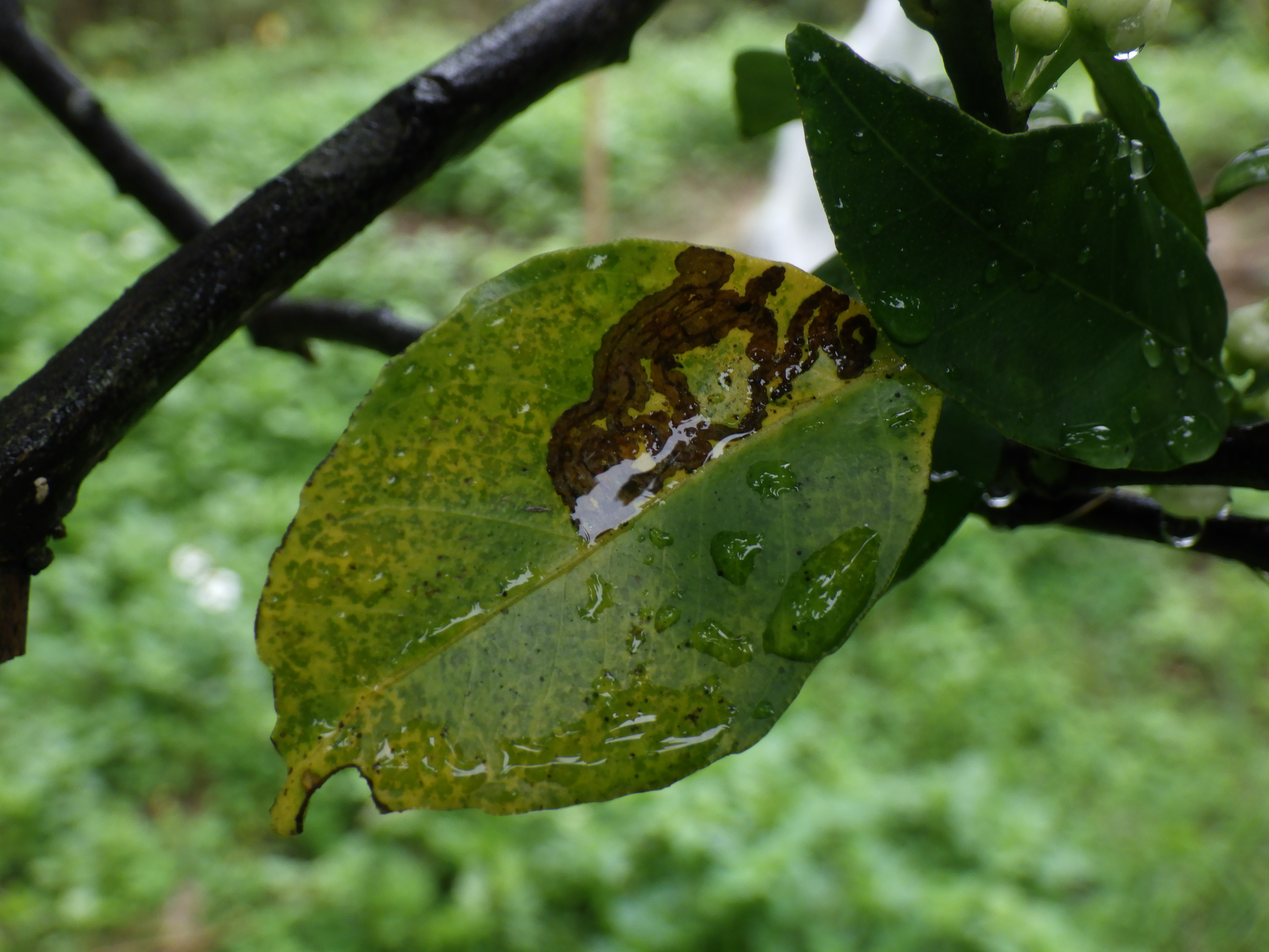Citrus_Leaf_Miner: (547, 247, 877, 537)
